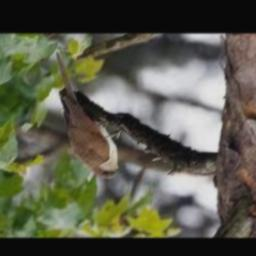Cuckoo: (56, 50, 124, 179)
